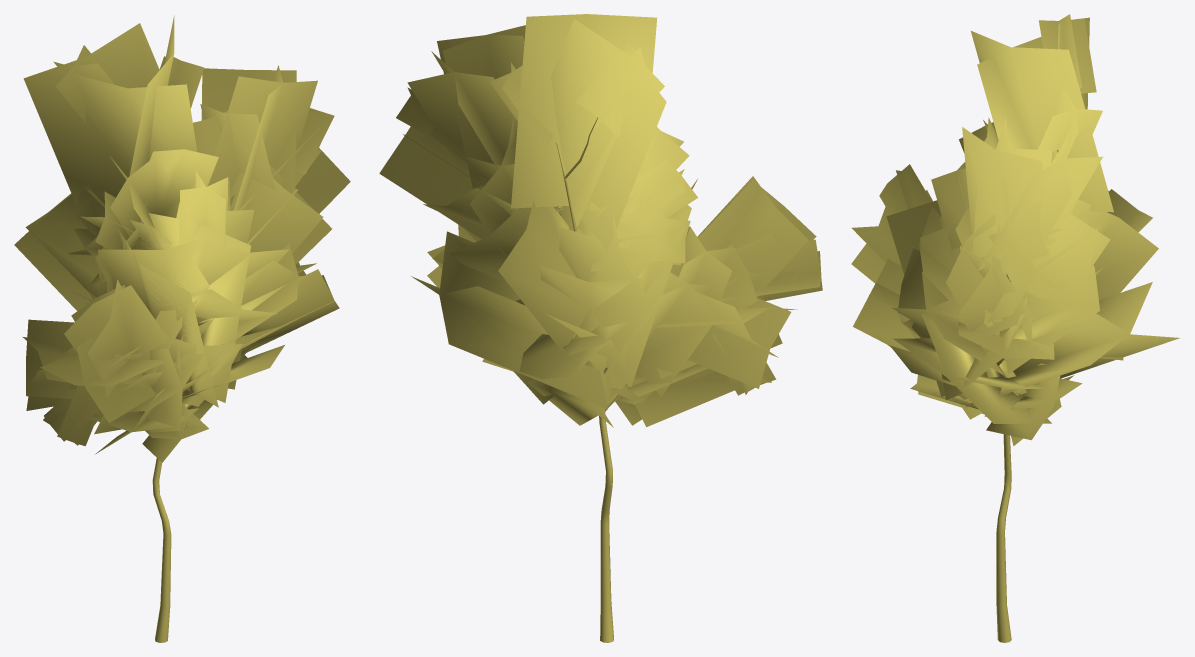
Rendered from cmc_aspen_tree.fbx.
3 views of the same model, side by side, from view 1: azimuth 30°, elevation 25°; view 2: azimuth 150°, elevation 25°; view 3: azimuth 270°, elevation 25° (orthographic). The views are drawn at different scales.
Visible parts, largest first — view 1: aspen_tree_LOD0; view 2: aspen_tree_LOD0; view 3: aspen_tree_LOD0.
Boxes of the visible parts, x1,y1,x2,y2 form: aspen_tree_LOD0: (14,15,350,642); aspen_tree_LOD0: (379,14,822,642); aspen_tree_LOD0: (851,14,1179,642).
Size of what is drawn, in the model's own units: 10.32 by 16.67 by 8.07.
